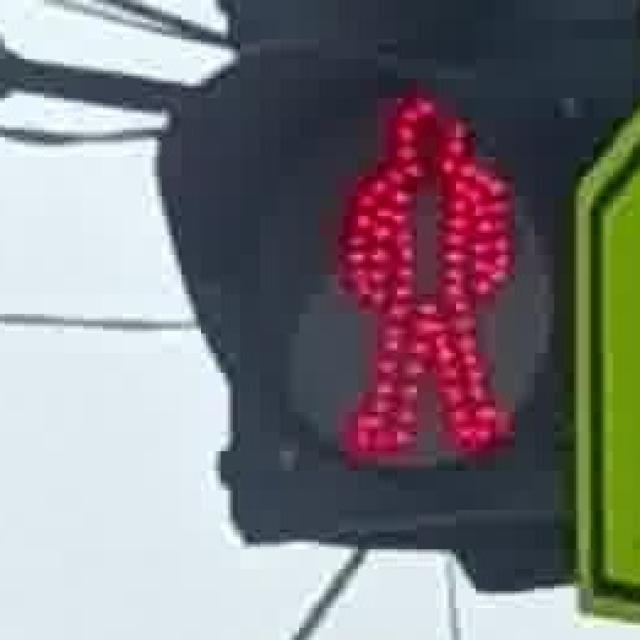red-light: (298, 60, 533, 480)
